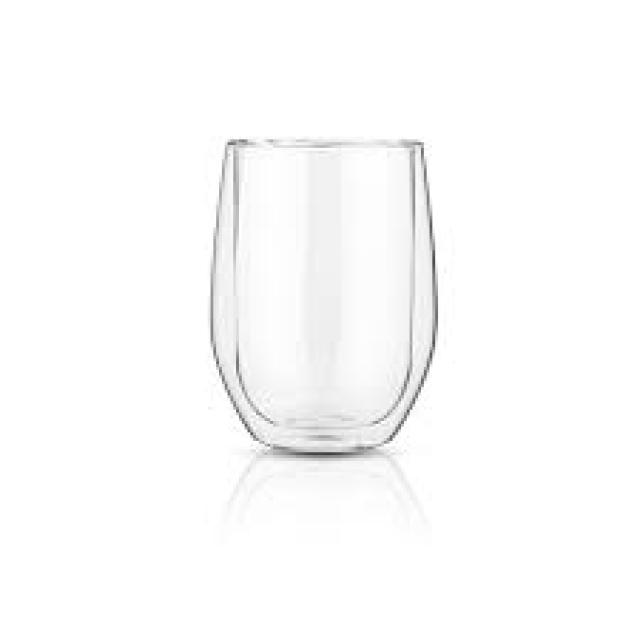Dry Waste: (204, 130, 444, 458)
